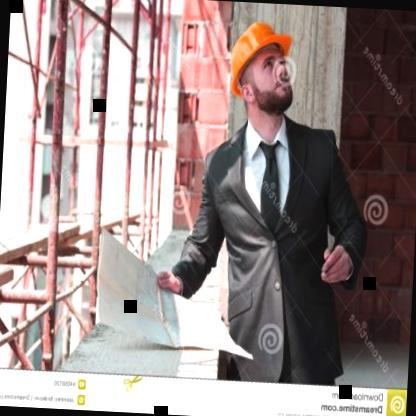helmet: (221, 2, 302, 134)
